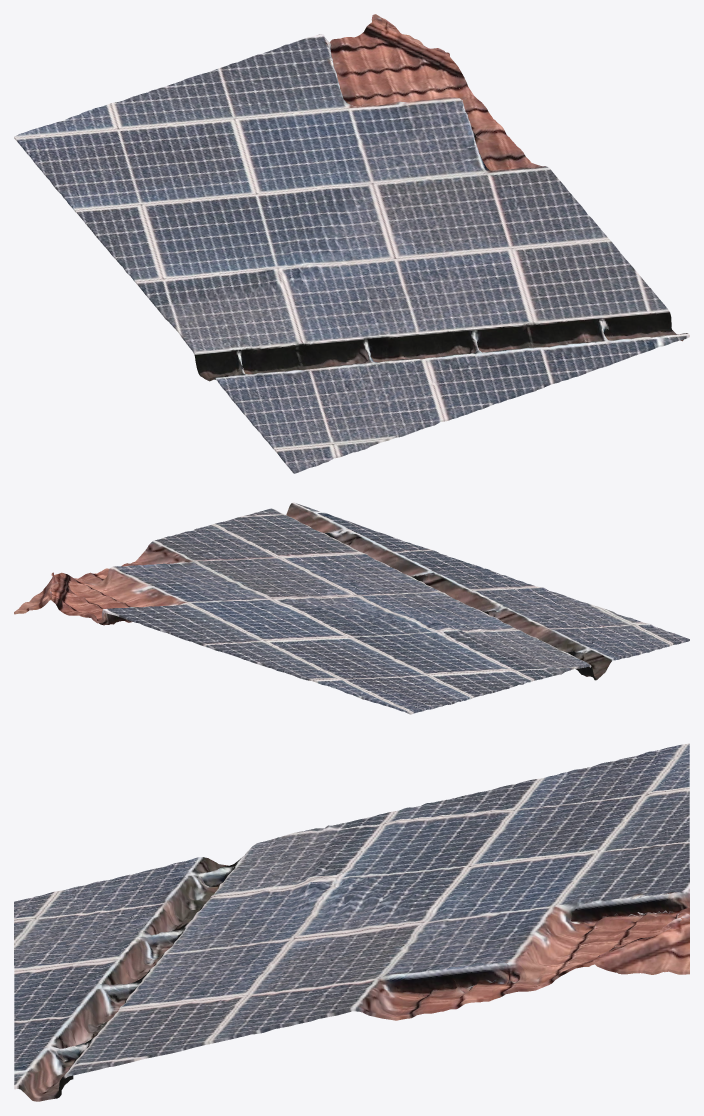
3 renders of one model, top to bottom at view 1: azimuth 30°, elevation 25°; view 2: azimuth 150°, elevation 25°; view 3: azimuth 270°, elevation 25°, orthographic. The views are drawn at different scales.
Parts seen in each view (by area): view 1: node_189; view 2: node_189; view 3: node_189.
Part boxes in pixels (left/top/right/bottom): node_189: left=14, top=14, right=689, bottom=473; node_189: left=14, top=502, right=689, bottom=714; node_189: left=14, top=743, right=689, bottom=1101.
Bounding box in the file's own units: 4.5 × 1.82 × 5.5.
1 material, 1 textured.
